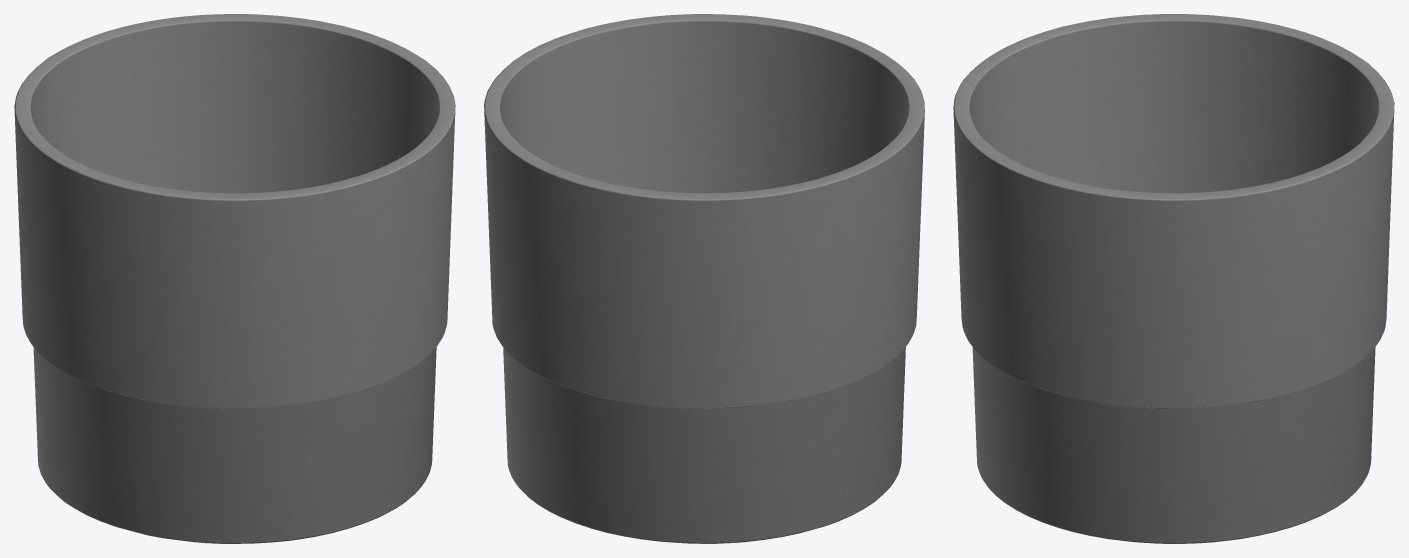
Rendered from nypon_osonka_doniczki_40395617.glb.
3 renders of one model, left to right at view 1: azimuth 30°, elevation 25°; view 2: azimuth 150°, elevation 25°; view 3: azimuth 270°, elevation 25°, orthographic.
Visible parts, largest first — view 1: nypon_osonka_doniczki_40395617; view 2: nypon_osonka_doniczki_40395617; view 3: nypon_osonka_doniczki_40395617.
Boxes of the visible parts, x1,y1,x2,y2 form: nypon_osonka_doniczki_40395617: [14, 14, 455, 543]; nypon_osonka_doniczki_40395617: [484, 14, 924, 543]; nypon_osonka_doniczki_40395617: [953, 14, 1394, 543].
Size of the model in its own units: 0.135 by 0.122 by 0.135.
Materials: 1 (1 with a texture image).
